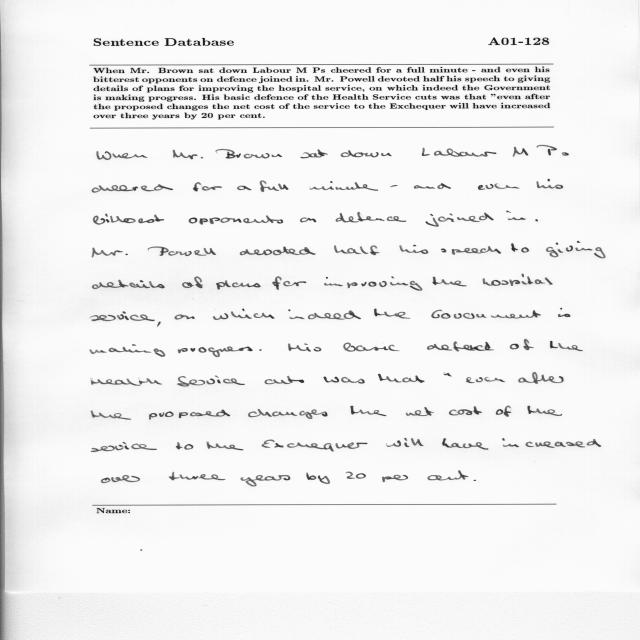word: (90, 322, 165, 357), (325, 276, 423, 291), (262, 440, 368, 452), (426, 212, 494, 227), (546, 241, 606, 258), (502, 438, 601, 448), (432, 310, 541, 319), (189, 215, 283, 225), (483, 274, 553, 286), (178, 346, 252, 357), (149, 410, 230, 420), (288, 309, 361, 320), (248, 409, 328, 419), (94, 214, 164, 225), (177, 376, 245, 387), (213, 308, 274, 320), (92, 184, 173, 193), (336, 212, 406, 222), (240, 247, 316, 256), (310, 181, 378, 191), (148, 246, 216, 256), (513, 145, 569, 157), (427, 342, 494, 352), (422, 148, 496, 157), (91, 442, 157, 452), (92, 280, 165, 289), (215, 149, 282, 158), (241, 475, 290, 487), (91, 378, 162, 386), (518, 372, 564, 384), (443, 438, 489, 450), (441, 246, 501, 255), (343, 343, 400, 352), (428, 471, 476, 481), (273, 276, 307, 290), (334, 246, 380, 256), (169, 472, 226, 480), (97, 151, 147, 160), (216, 280, 261, 290), (378, 374, 424, 383), (90, 311, 129, 321), (92, 248, 128, 258), (374, 309, 410, 319), (91, 411, 131, 420), (351, 406, 387, 416), (341, 151, 392, 158), (432, 277, 467, 287), (527, 406, 562, 416), (386, 439, 424, 448), (550, 341, 583, 351), (207, 442, 243, 451), (260, 181, 289, 192), (265, 376, 304, 384), (288, 343, 322, 352), (102, 475, 140, 483), (173, 150, 203, 160), (449, 407, 482, 416), (323, 377, 365, 384), (478, 183, 519, 190), (510, 339, 534, 350), (306, 473, 330, 484), (193, 182, 222, 191), (400, 245, 429, 254), (537, 179, 563, 189), (182, 277, 203, 289), (406, 407, 434, 416), (301, 150, 328, 159), (466, 377, 505, 383), (414, 183, 451, 189), (382, 475, 408, 482), (506, 211, 526, 220), (511, 243, 529, 253), (130, 314, 155, 321), (496, 406, 511, 417), (346, 472, 366, 479), (176, 442, 193, 450), (558, 308, 570, 317), (175, 315, 195, 320), (300, 218, 316, 223), (237, 186, 251, 190), (444, 373, 451, 377), (390, 185, 398, 187), (535, 219, 538, 222), (259, 349, 262, 351)
